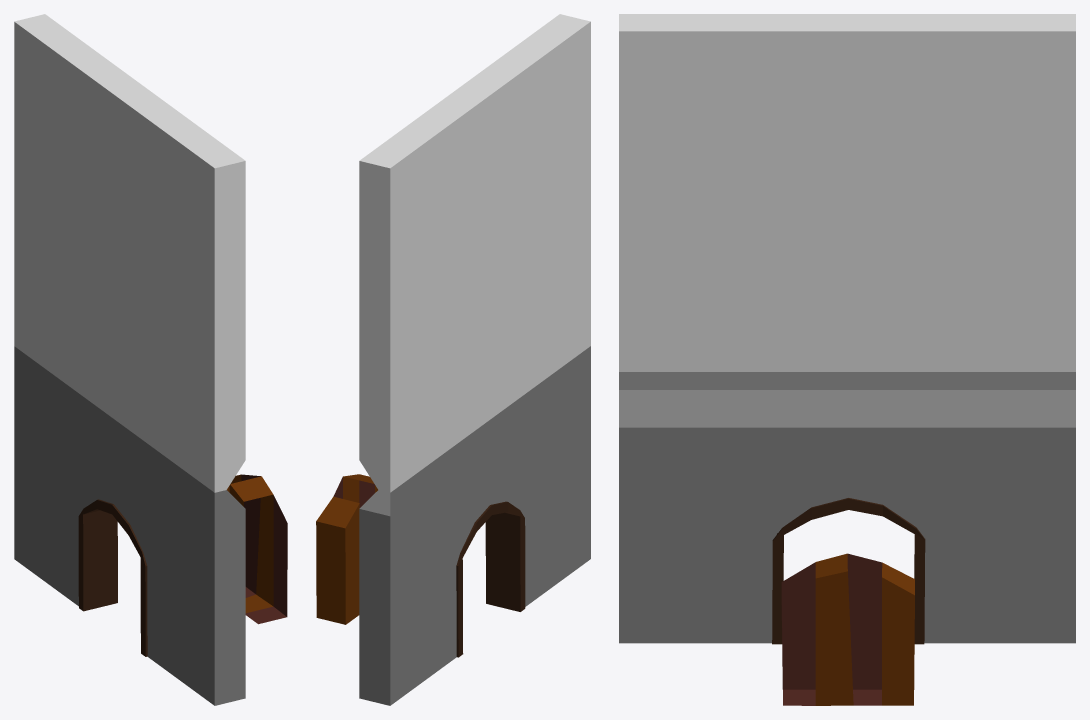
The model's file is PORTARATY 1.fbx.
The picture shows the model from 3 angles, left to right: view 1: azimuth 30°, elevation 25°; view 2: azimuth 150°, elevation 25°; view 3: azimuth 270°, elevation 25°; orthographic projection. The views are drawn at different scales.
Visible parts, largest first — view 1: Cube.002, Cube, Cube.001, Cube.004, Cube.003; view 2: Cube.002, Cube, Cube.003, Cube.004, Cube.001; view 3: Cube.002, Cube, Cube.004, Cube.001, Cube.003.
Part boxes in pixels (x1=…): Cube.002: x1=14, y1=14, x2=245, y2=705; Cube: x1=227, y1=474, x2=287, y2=624; Cube.001: x1=78, y1=510, x2=117, y2=611; Cube.004: x1=79, y1=499, x2=147, y2=566; Cube.003: x1=140, y1=557, x2=147, y2=656; Cube.002: x1=359, y1=14, x2=590, y2=705; Cube: x1=316, y1=474, x2=377, y2=624; Cube.003: x1=485, y1=512, x2=525, y2=611; Cube.004: x1=457, y1=501, x2=524, y2=565; Cube.001: x1=456, y1=557, x2=463, y2=657; Cube.002: x1=619, y1=14, x2=1075, y2=643; Cube: x1=781, y1=553, x2=914, y2=705; Cube.004: x1=772, y1=498, x2=924, y2=540; Cube.001: x1=914, y1=533, x2=925, y2=644; Cube.003: x1=772, y1=535, x2=783, y2=644.
Bounding box in the file's own units: 172 × 593 × 401.
